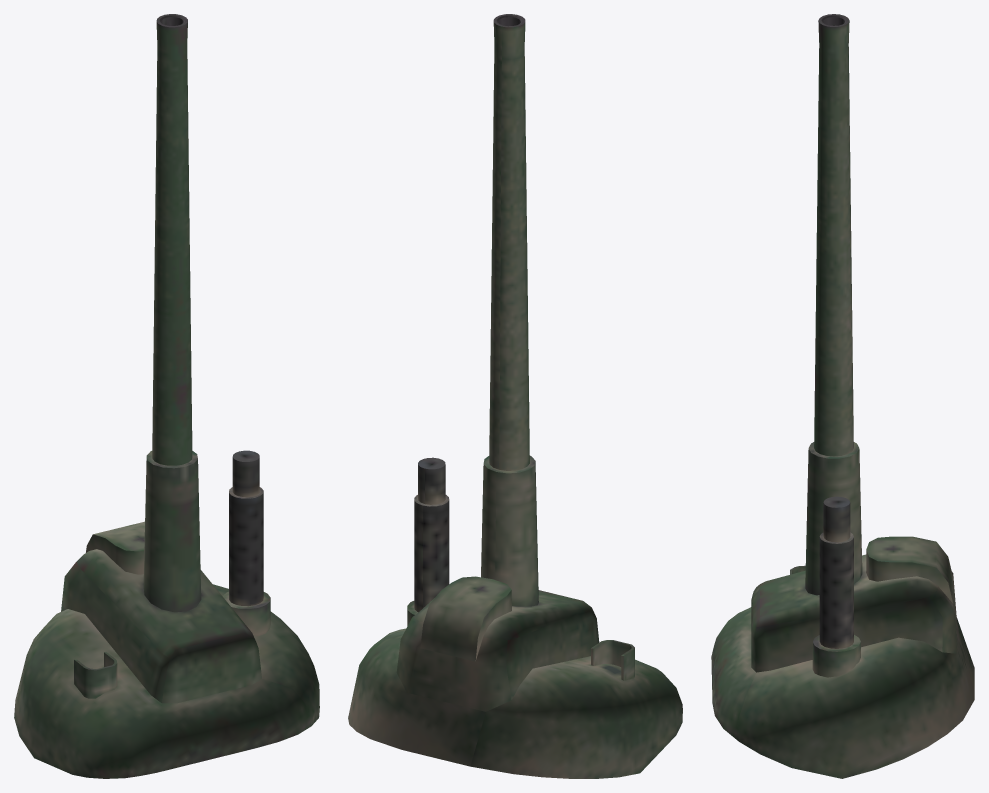
File: Gun_01.glb
3 views of the same model, side by side, from view 1: azimuth 30°, elevation 25°; view 2: azimuth 150°, elevation 25°; view 3: azimuth 270°, elevation 25° (orthographic). The views are drawn at different scales.
Visible parts, largest first — view 1: set_0_group_0; view 2: set_0_group_0; view 3: set_0_group_0.
Part boxes in pixels (x1,y1,x2,y2): set_0_group_0: (14, 14, 319, 778); set_0_group_0: (348, 14, 682, 778); set_0_group_0: (711, 14, 974, 778).
Size of the model in its own units: 0.51 by 1.28 by 0.4406.
1 material, 1 textured.
